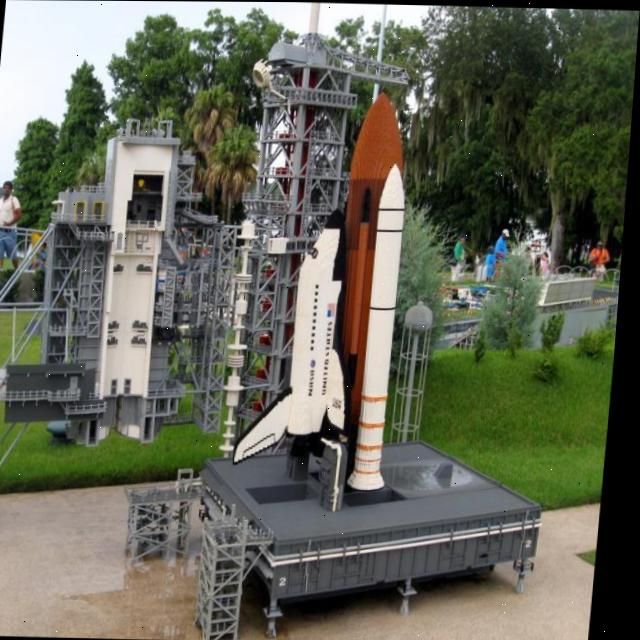missile: (239, 88, 433, 490)
